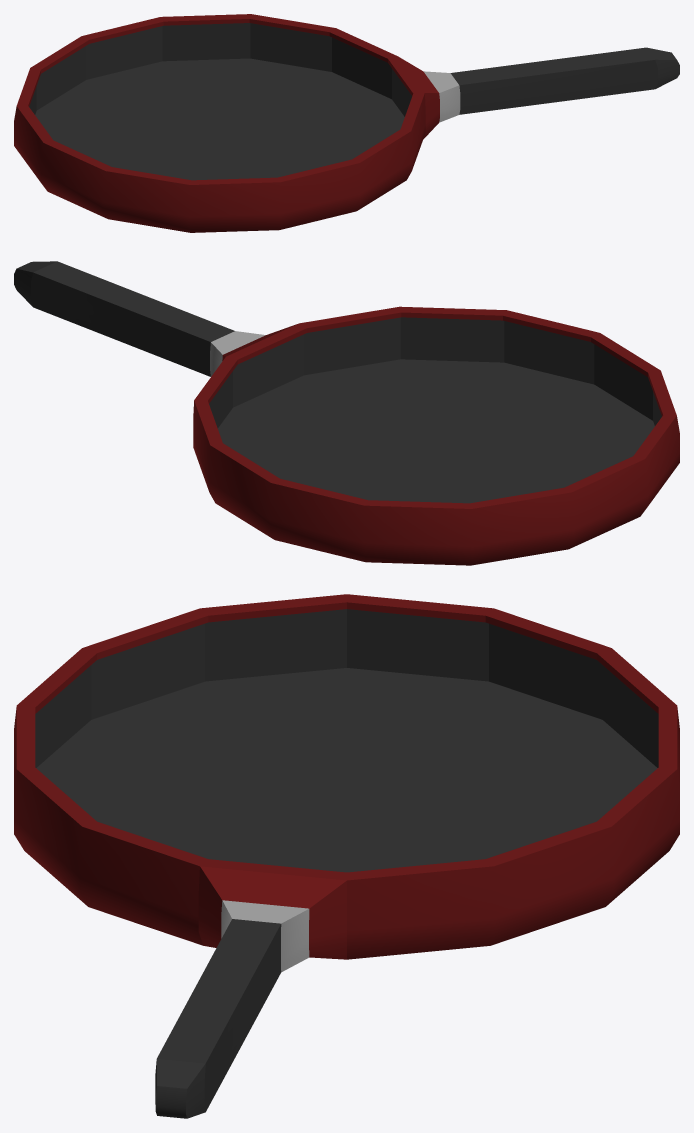
The model's file is Pan.fbx.
3 views of the same model, one above another, from view 1: azimuth 30°, elevation 25°; view 2: azimuth 150°, elevation 25°; view 3: azimuth 270°, elevation 25° (orthographic). The views are drawn at different scales.
Visible parts, largest first — view 1: pCylinder2; view 2: pCylinder2; view 3: pCylinder2.
Part boxes in pixels (left/top/right/bottom): pCylinder2: left=14, top=14, right=679, bottom=232; pCylinder2: left=14, top=261, right=679, bottom=565; pCylinder2: left=14, top=594, right=679, bottom=1118.
Bounding box in the file's own units: 16.95 × 1.39 × 10.1.
